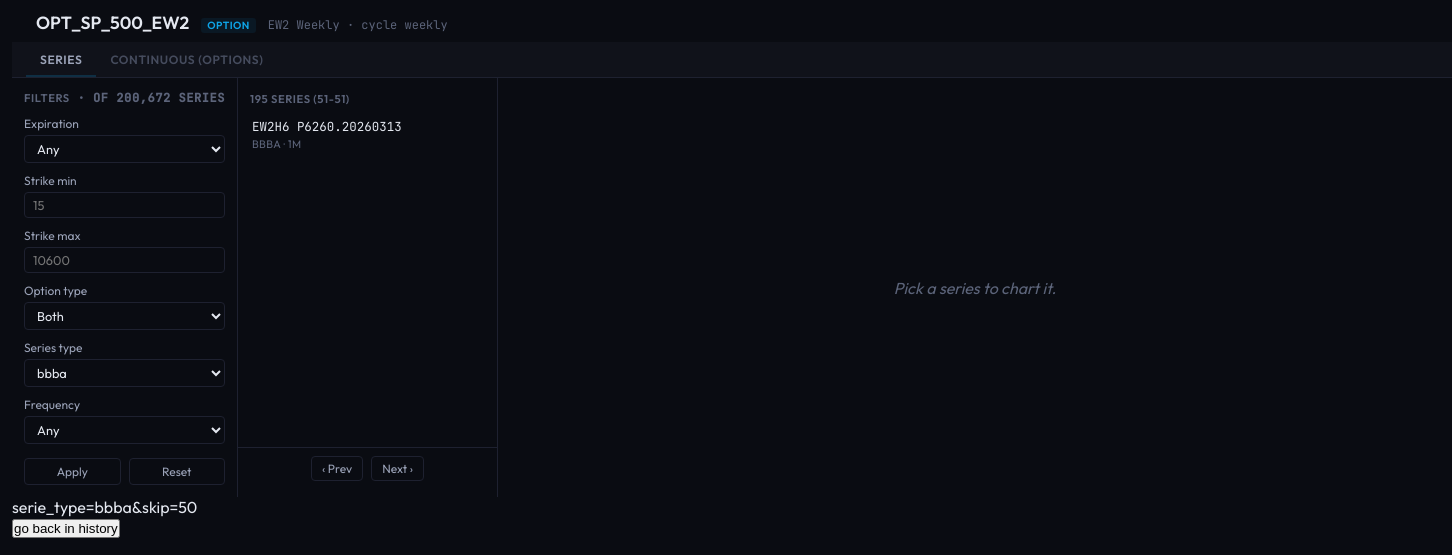
Test: ObjectDetail filter state in the URL › clears the query string on Reset, so a reload cannot resurrect the filter
The width and height of the screenshot is (1452, 555).
Expected: the text "EW2H6 P6260.20260313" is shown, x1=252 y1=118 x2=402 y2=135
Click the button "Reset".
click(177, 472)  # box x1=128 y1=458 x2=225 y2=485
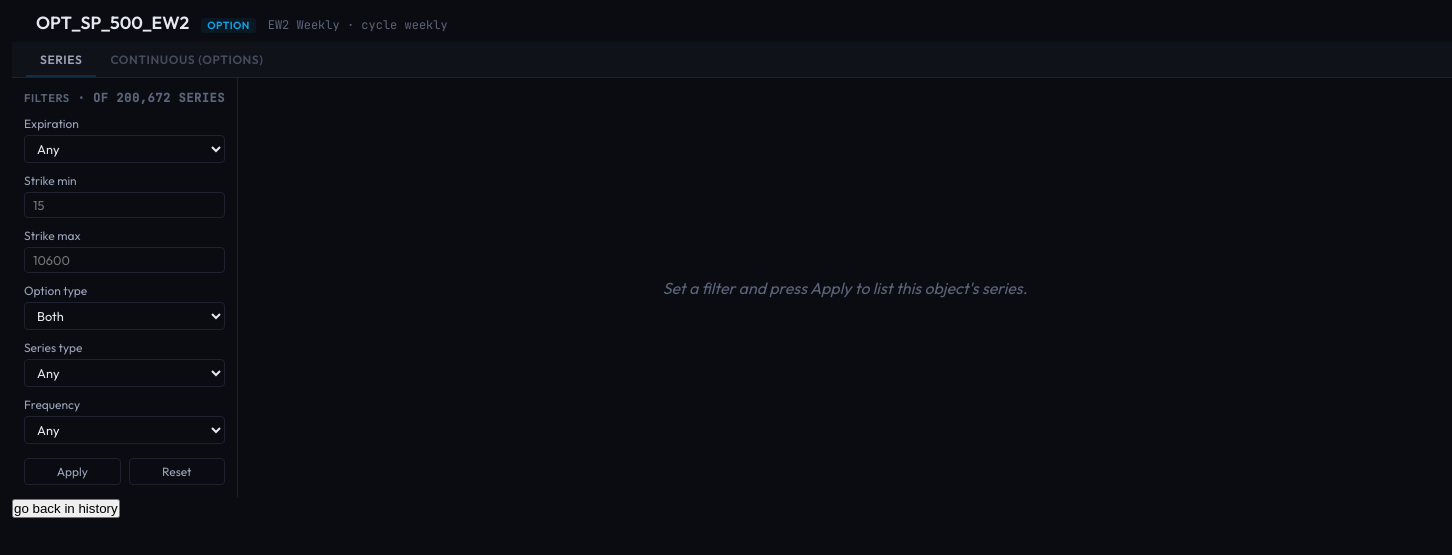
Expected: the text "Set a filter and press Apply to list this object's series." is shown, x1=663 y1=278 x2=1027 y2=298
Expected: the button "EW2H6 P6260.20260313" is gone
Expected: the dropdown labelled "Series type" shows "Any", x1=24 y1=359 x2=225 y2=387
